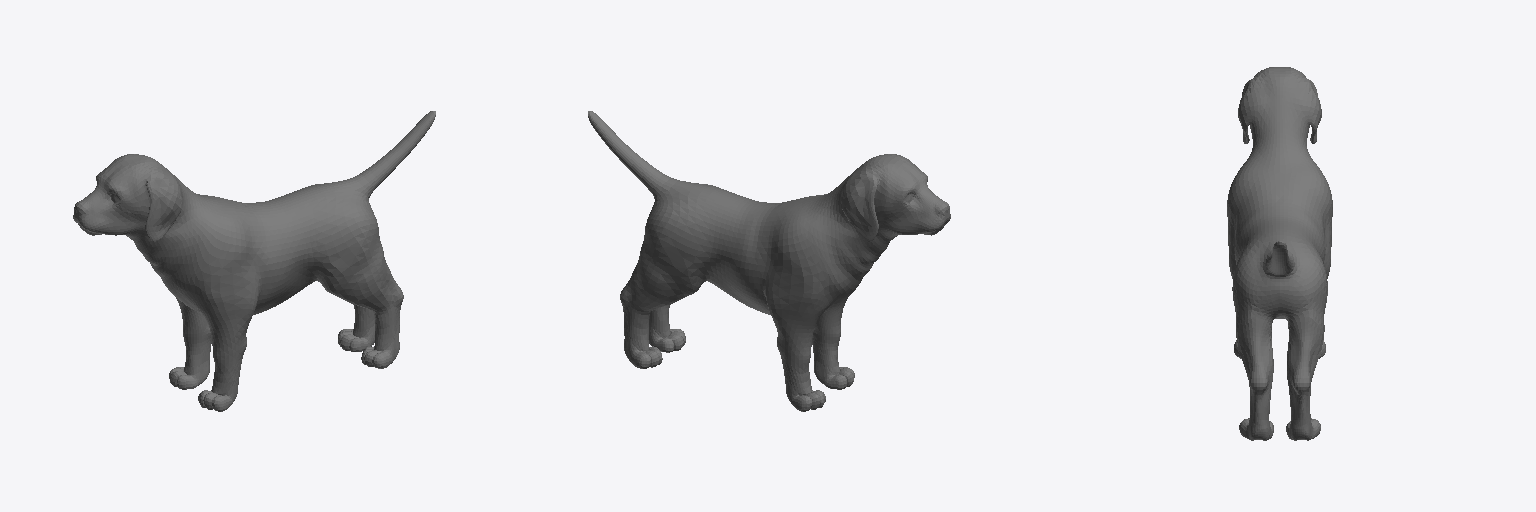
The model's file is dog.obj.
The picture shows the model from 3 angles: view 1: azimuth 30°, elevation 25°; view 2: azimuth 150°, elevation 25°; view 3: azimuth 270°, elevation 25°; orthographic projection.
Visible parts, largest first — view 1: 037_Vray; view 2: 037_Vray; view 3: 037_Vray.
Part boxes in pixels (bbox=[...]): 037_Vray: bbox=[73, 111, 435, 411]; 037_Vray: bbox=[588, 111, 950, 411]; 037_Vray: bbox=[1227, 67, 1332, 440].
Size of the model in its own units: 0.9169 by 0.6173 by 0.2344.